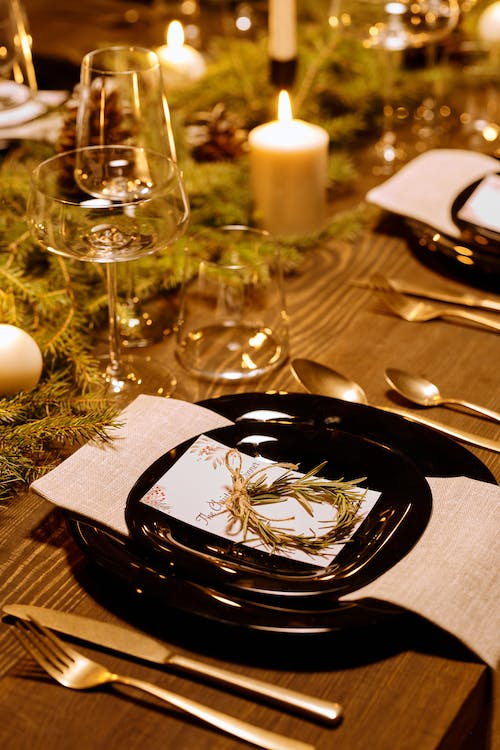knife: (0, 600, 346, 731), (348, 273, 500, 312)
